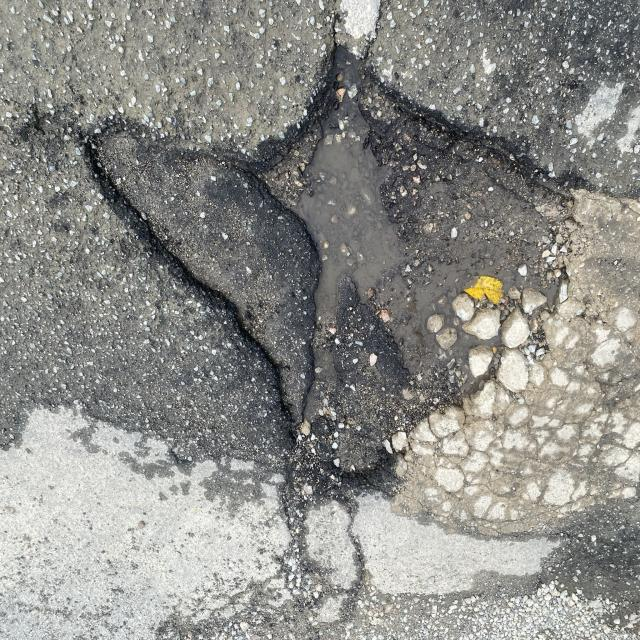Pothole: (46, 60, 640, 471)
